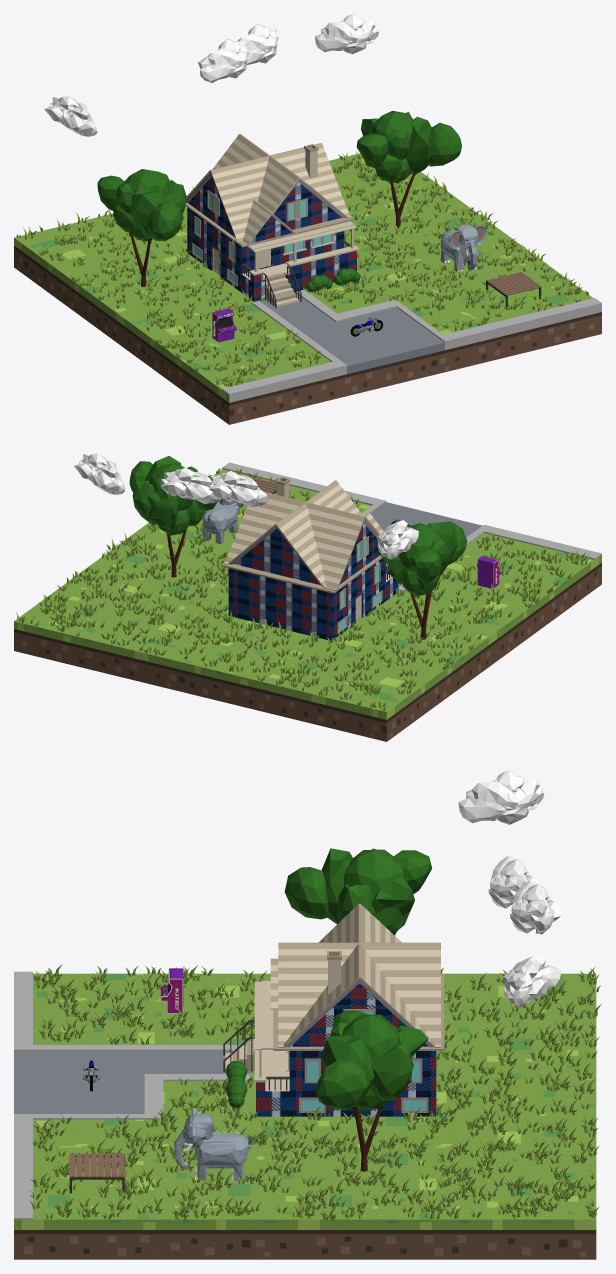
3 views of the same model, one above another, from view 1: azimuth 30°, elevation 25°; view 2: azimuth 150°, elevation 25°; view 3: azimuth 270°, elevation 25° (orthographic). The views are drawn at different scales.
Visible parts, largest first — view 1: Cube.006, Cube.171, Circle.012_Grass_0.192, Cube.007, tree, tree.001, ANIMAL_ELEFANTE, Cube.009, OBJRANDOM_ARCADE; view 2: Cube.006, Cube.171, Circle.012_Grass_0.192, Cube.007, tree.001, tree, ANIMAL_ELEFANTE, OBJRANDOM_ARCADE; view 3: Cube.006, Circle.012_Grass_0.192, Cube.171, tree, Cube.007, tree.001, ANIMAL_ELEFANTE, Cube.009, OBJRANDOM_ARCADE.
Boxes of the visible parts, x1,y1,x2,y2 form: Cube.006: (14, 153, 601, 424); Cube.171: (185, 134, 359, 307); Circle.012_Grass_0.192: (16, 150, 588, 386); Cube.007: (44, 14, 378, 136); tree: (356, 110, 461, 228); tree.001: (97, 169, 186, 286); ANIMAL_ELEFANTE: (440, 224, 486, 273); Cube.009: (486, 272, 541, 306); OBJRANDOM_ARCADE: (212, 308, 236, 342); Cube.006: (14, 462, 601, 741); Cube.171: (221, 477, 398, 640); Circle.012_Grass_0.192: (16, 468, 588, 711); Cube.007: (74, 453, 418, 559); tree.001: (375, 521, 467, 639); tree: (129, 456, 216, 577); ANIMAL_ELEFANTE: (202, 498, 243, 543); OBJRANDOM_ARCADE: (477, 555, 501, 588); Cube.006: (14, 971, 596, 1259); Circle.012_Grass_0.192: (29, 964, 601, 1220); Cube.171: (223, 903, 444, 1116); tree: (315, 1010, 428, 1171); Cube.007: (458, 770, 561, 1007); tree.001: (284, 848, 432, 935); ANIMAL_ELEFANTE: (174, 1108, 252, 1180); Cube.009: (69, 1153, 124, 1193); OBJRANDOM_ARCADE: (160, 968, 183, 1013).
Size of the model in its own units: 4071 by 2175 by 4040.
Materials: 37 (4 with a texture image).
